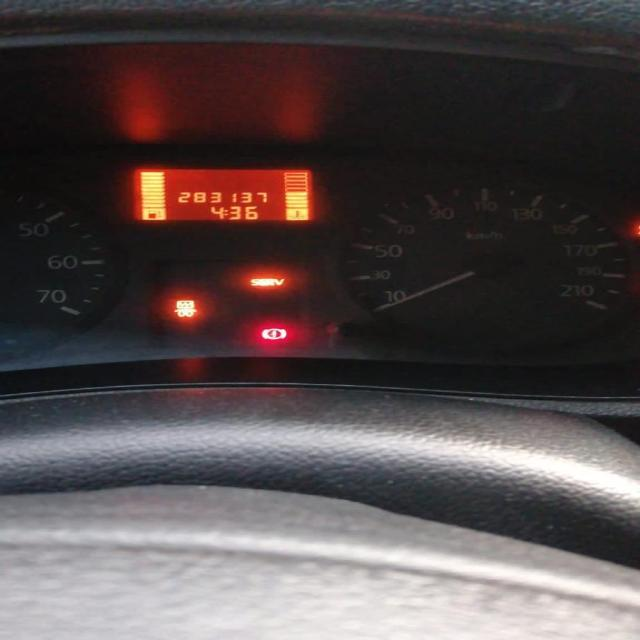odometer: (130, 167, 317, 222)
